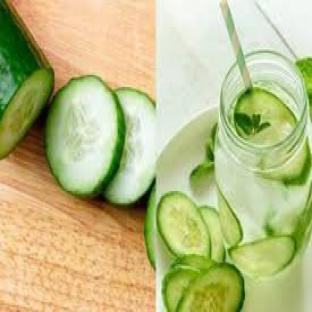Cucumber: (46, 76, 124, 197), (104, 89, 156, 204), (234, 87, 297, 146), (157, 191, 209, 255), (177, 263, 245, 311), (230, 236, 296, 277), (263, 140, 310, 185), (163, 268, 198, 311), (200, 207, 225, 262), (218, 190, 242, 247), (294, 185, 311, 250), (145, 186, 156, 269), (297, 57, 311, 119), (172, 255, 215, 271)
